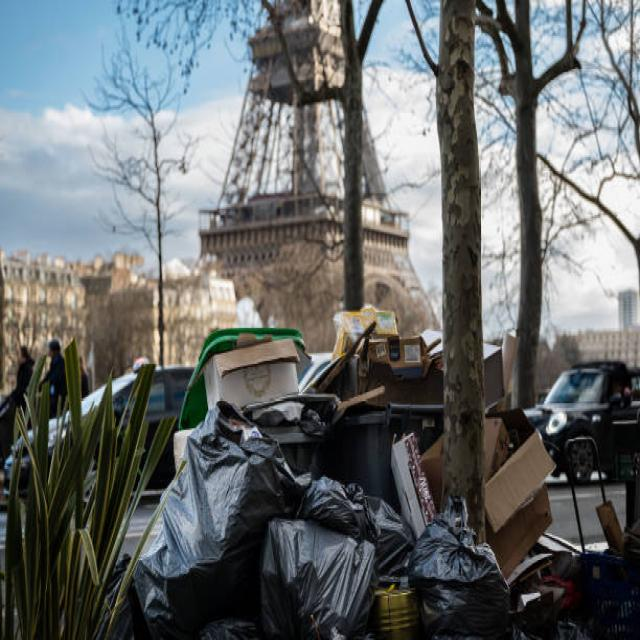cardboard: (337, 307, 442, 405), (199, 337, 305, 397)
metal: (379, 566, 417, 634)
trash: (122, 419, 374, 638), (423, 517, 521, 640)
